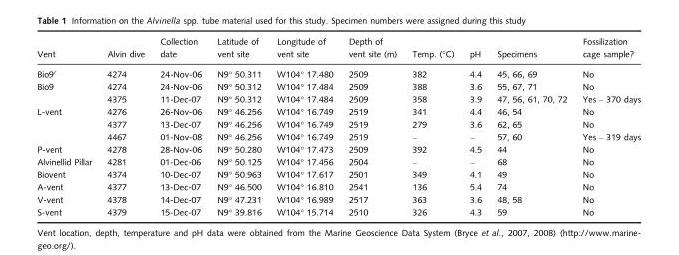table: (36, 36, 640, 216)
table column: (488, 36, 574, 216), (268, 36, 340, 216), (574, 36, 640, 216), (340, 36, 403, 216), (36, 36, 98, 216), (208, 36, 268, 216), (403, 36, 461, 216), (151, 36, 208, 216), (98, 36, 151, 216), (461, 36, 488, 216)
table column header: (36, 36, 640, 63)
table row: (36, 36, 640, 63), (36, 63, 640, 80), (36, 92, 640, 105), (36, 117, 640, 130), (36, 142, 640, 155), (36, 167, 640, 180), (36, 192, 640, 205), (36, 80, 640, 92), (36, 105, 640, 117), (36, 130, 640, 142), (36, 155, 640, 167), (36, 180, 640, 192), (36, 205, 640, 216)
table spanning cell: (36, 105, 98, 142), (36, 80, 98, 105)
